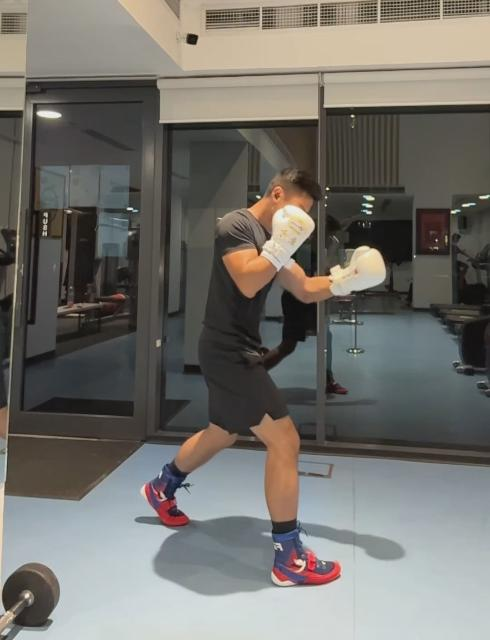punch: (142, 165, 389, 591)
